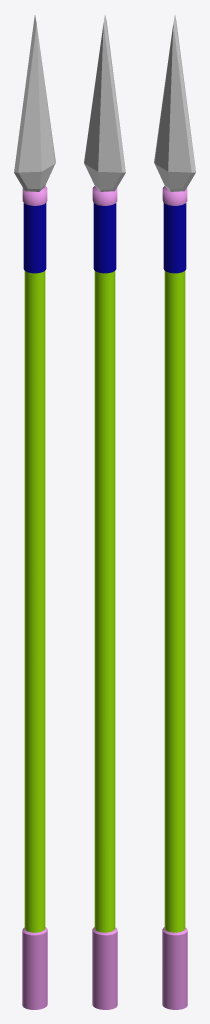
The model's file is lanza mejorada.fbx.
3 renders of one model, left to right at view 1: azimuth 30°, elevation 25°; view 2: azimuth 150°, elevation 25°; view 3: azimuth 330°, elevation 25°, orthographic.
Visible parts, largest first — view 1: Mango, Punta; view 2: Mango, Punta; view 3: Mango, Punta.
Boxes of the visible parts, x1,y1,x2,y2 form: Mango: [22, 186, 47, 1009]; Punta: [14, 15, 55, 191]; Mango: [92, 186, 117, 1009]; Punta: [84, 15, 125, 191]; Mango: [162, 186, 187, 1009]; Punta: [154, 15, 195, 191].
Bounding box in the file's own units: 9.31 × 210 × 5.21.
